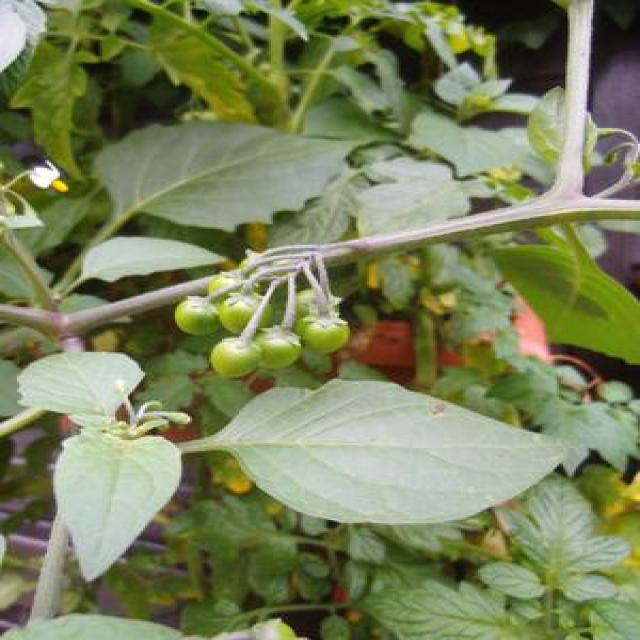Poisonous-Deadly_Nightshade: (6, 6, 608, 252), (9, 352, 564, 590), (136, 258, 425, 402)
